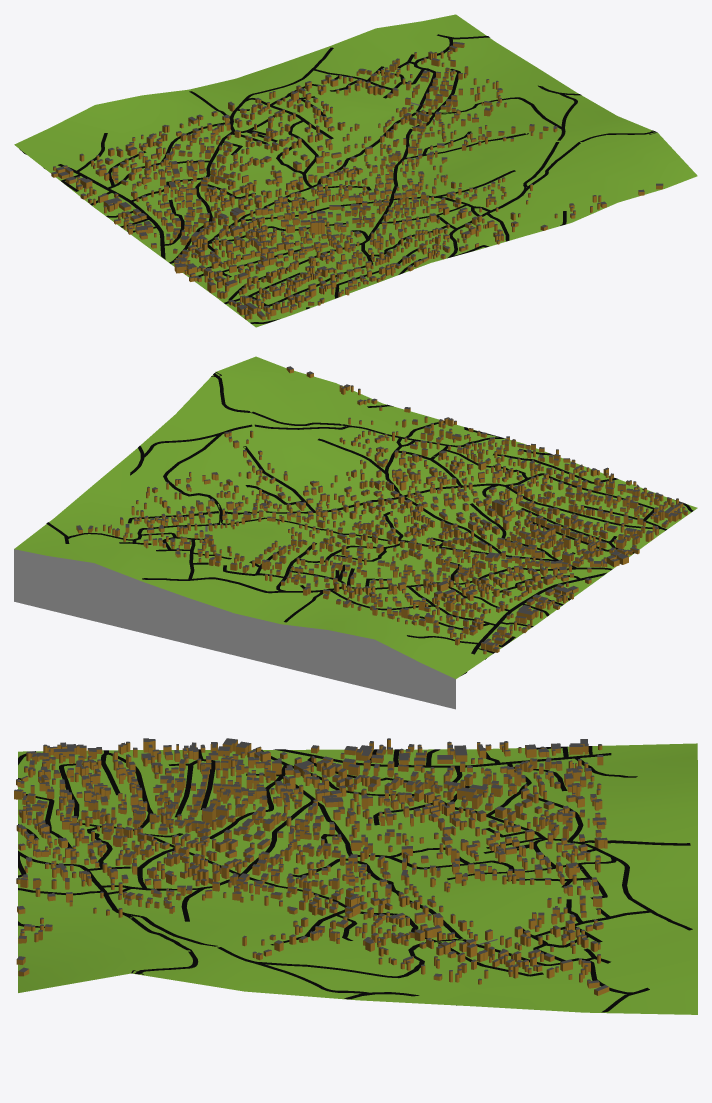
File: tile_07_07.glb
3 renders of one model, top to bottom at view 1: azimuth 30°, elevation 25°; view 2: azimuth 150°, elevation 25°; view 3: azimuth 270°, elevation 25°, orthographic. The views are drawn at different scales.
Parts seen in each view (by area): view 1: Terrain_07_07, Ub_small.osm_buildings_07_07, Ub_small.osm_roads_residential_07_07, Ub_small.osm_roads_secondary_07_07; view 2: Terrain_07_07, Ub_small.osm_buildings_07_07, Ub_small.osm_roads_residential_07_07; view 3: Terrain_07_07, Ub_small.osm_buildings_07_07, Ub_small.osm_roads_residential_07_07, Ub_small.osm_roads_secondary_07_07.
Part boxes in pixels (x1,y1,x2,y2): Terrain_07_07: (14, 14, 697, 327); Ub_small.osm_buildings_07_07: (51, 42, 663, 320); Ub_small.osm_roads_residential_07_07: (44, 34, 655, 323); Ub_small.osm_roads_secondary_07_07: (19, 149, 165, 259); Terrain_07_07: (14, 356, 697, 709); Ub_small.osm_buildings_07_07: (76, 366, 687, 654); Ub_small.osm_roads_residential_07_07: (46, 373, 693, 659); Terrain_07_07: (18, 743, 697, 1014); Ub_small.osm_buildings_07_07: (14, 738, 609, 995); Ub_small.osm_roads_residential_07_07: (18, 746, 692, 1012); Ub_small.osm_roads_secondary_07_07: (273, 749, 611, 767).
Bounding box in the file's own units: 989 × 174 × 933.
